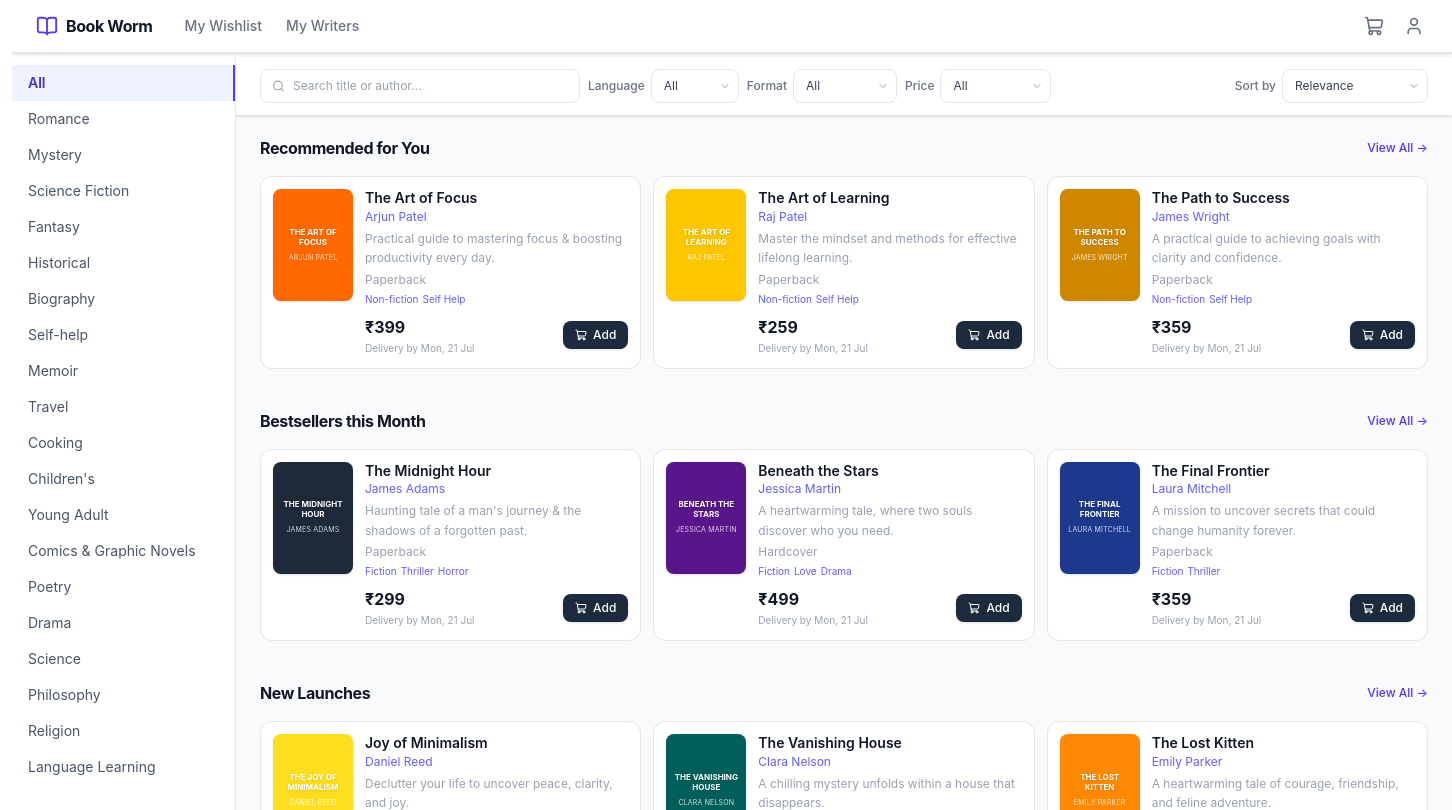
Test: CataloguePage › shows empty results view when search query matches no books and clears filters
The image size is (1452, 810).
Step 1. Type "NonexistentBookTitleXYZ" into the field with placeholder "Search title or author…" → (420,86), box [260, 69, 580, 103]
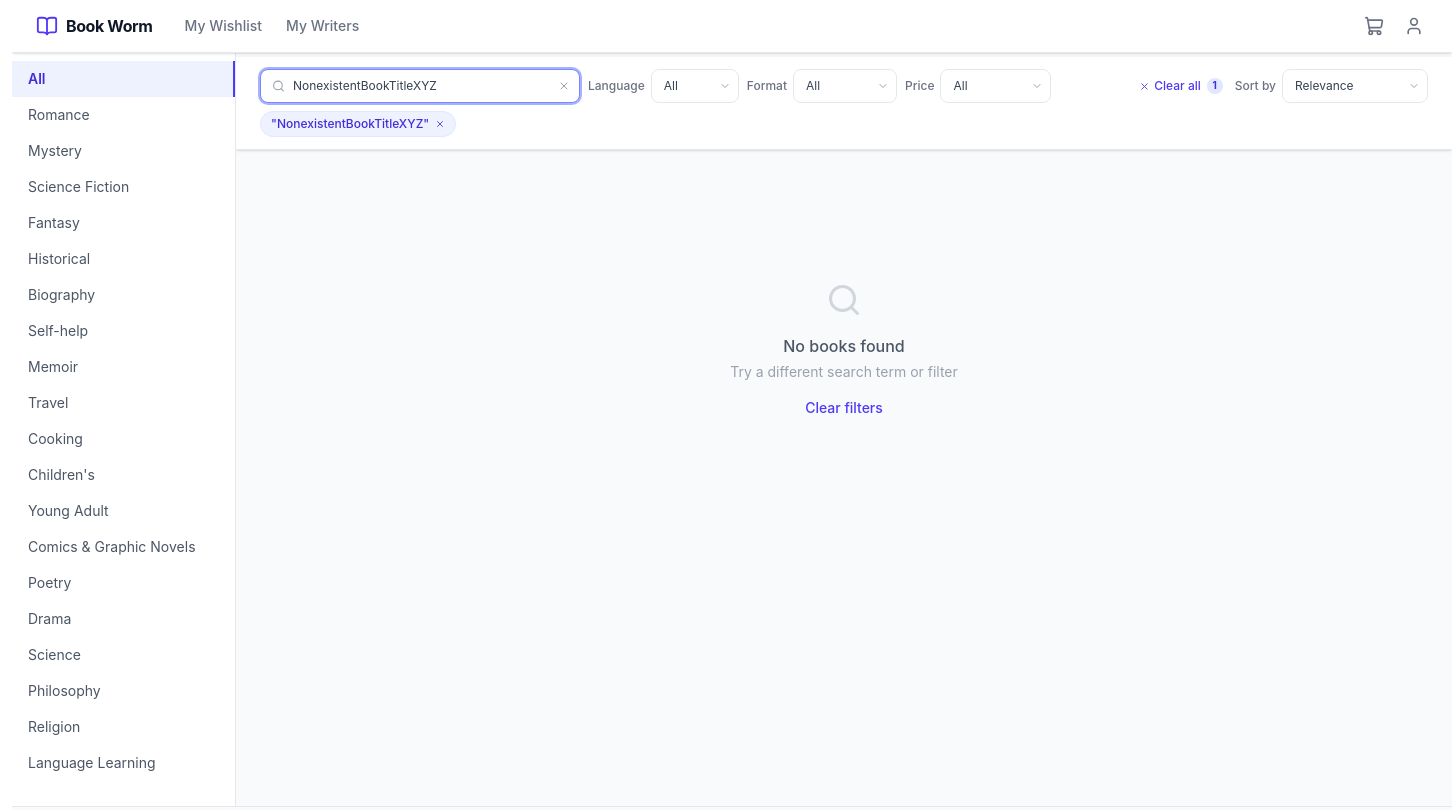
Now the text "No books found" is shown, box [783, 334, 905, 358]
Step 2. Click the button "Clear filters" → (844,408), box [805, 398, 883, 418]
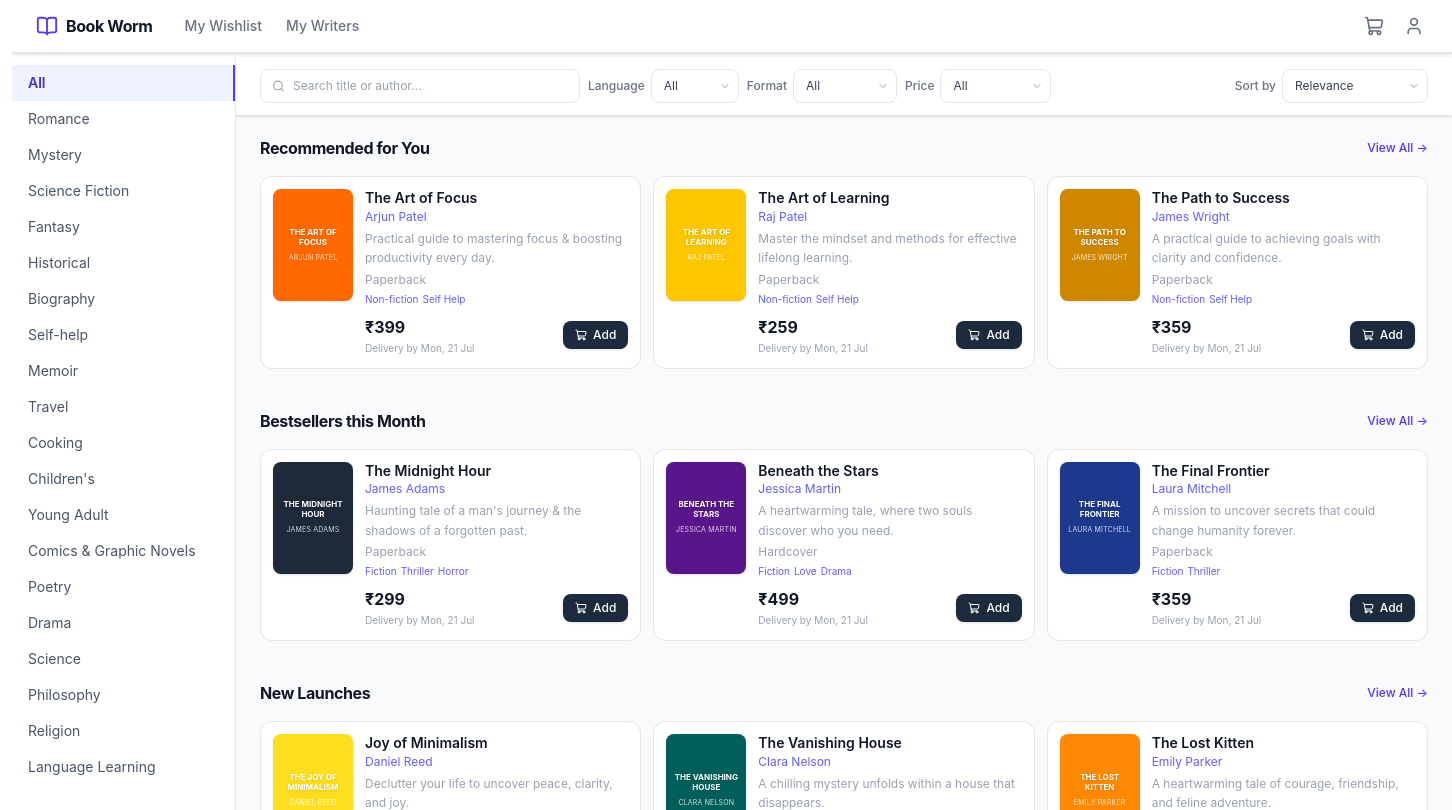
Now the field with placeholder "Search title or author…" is empty, box [260, 69, 580, 103]
Now the heading "Recommended for You" is shown, box [260, 136, 430, 160]
